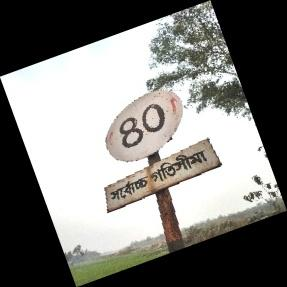Speed-limit: (101, 89, 218, 212)
